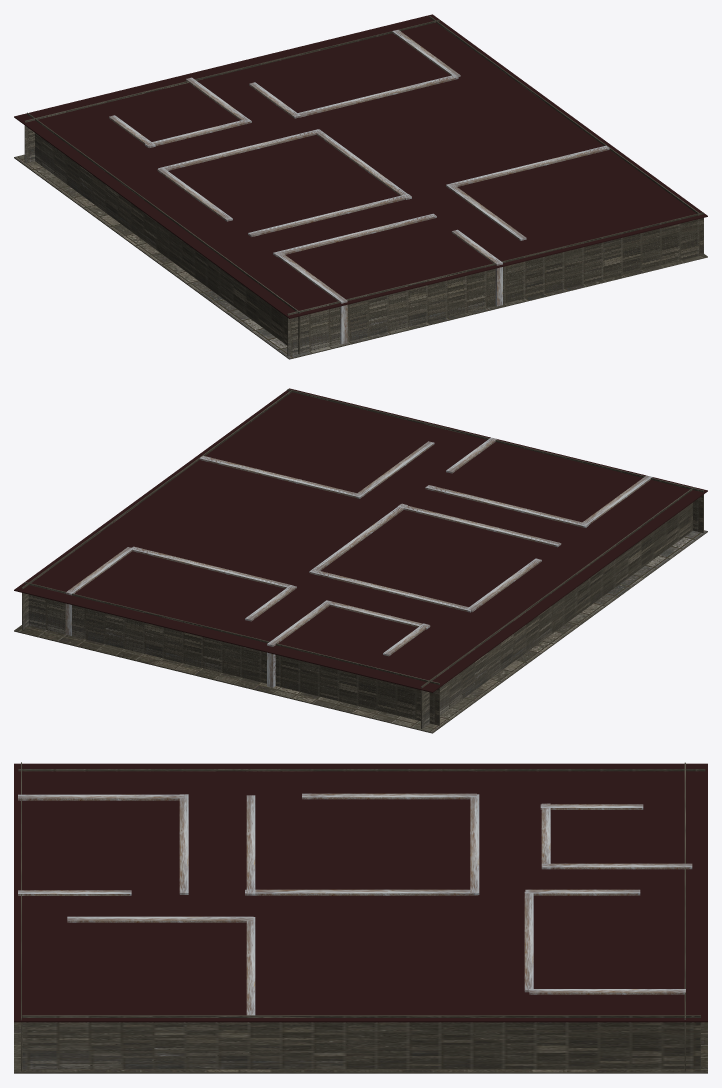
Rendered from horror_house_game_ready.glb.
3 renders of one model, top to bottom at view 1: azimuth 30°, elevation 25°; view 2: azimuth 150°, elevation 25°; view 3: azimuth 270°, elevation 25°, orthographic. The views are drawn at different scales.
Parts seen in each view (by area): view 1: Object_2, Object_3, Object_4; view 2: Object_2, Object_3, Object_4; view 3: Object_2, Object_3, Object_4.
Boxes of the visible parts, x1,y1,x2,y2 form: Object_2: [14, 14, 707, 318]; Object_3: [14, 16, 707, 359]; Object_4: [109, 29, 609, 344]; Object_2: [14, 388, 707, 692]; Object_3: [14, 389, 707, 733]; Object_4: [65, 437, 652, 687]; Object_2: [14, 763, 707, 1022]; Object_3: [14, 762, 707, 1073]; Object_4: [18, 793, 692, 1015].
Bounding box in the file's own units: 40.8 × 4.08 × 46.49.
Materials: 3 (2 with a texture image).
